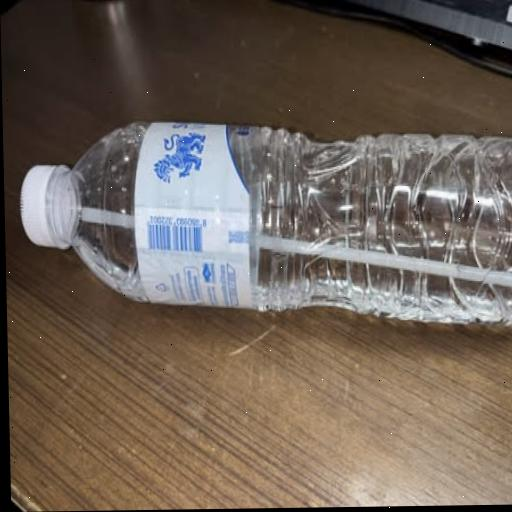ba: (13, 56, 512, 420)
